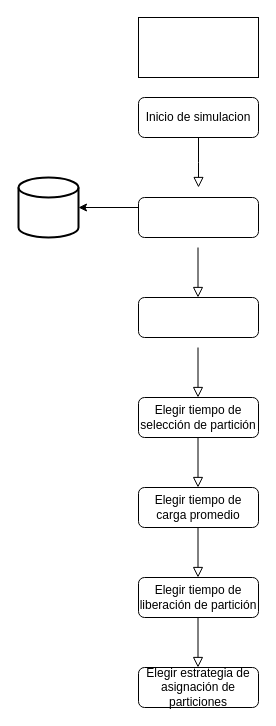
This 276x726 diagram has some shape labels left out. The shapes that lost their labels are listed below. From the top down, each one's centre as x and y in pixels, then its label:
(198,47): Simulador
(198,217): Leer datos de entrada
(198,317): Elegir tamaño de la mp
